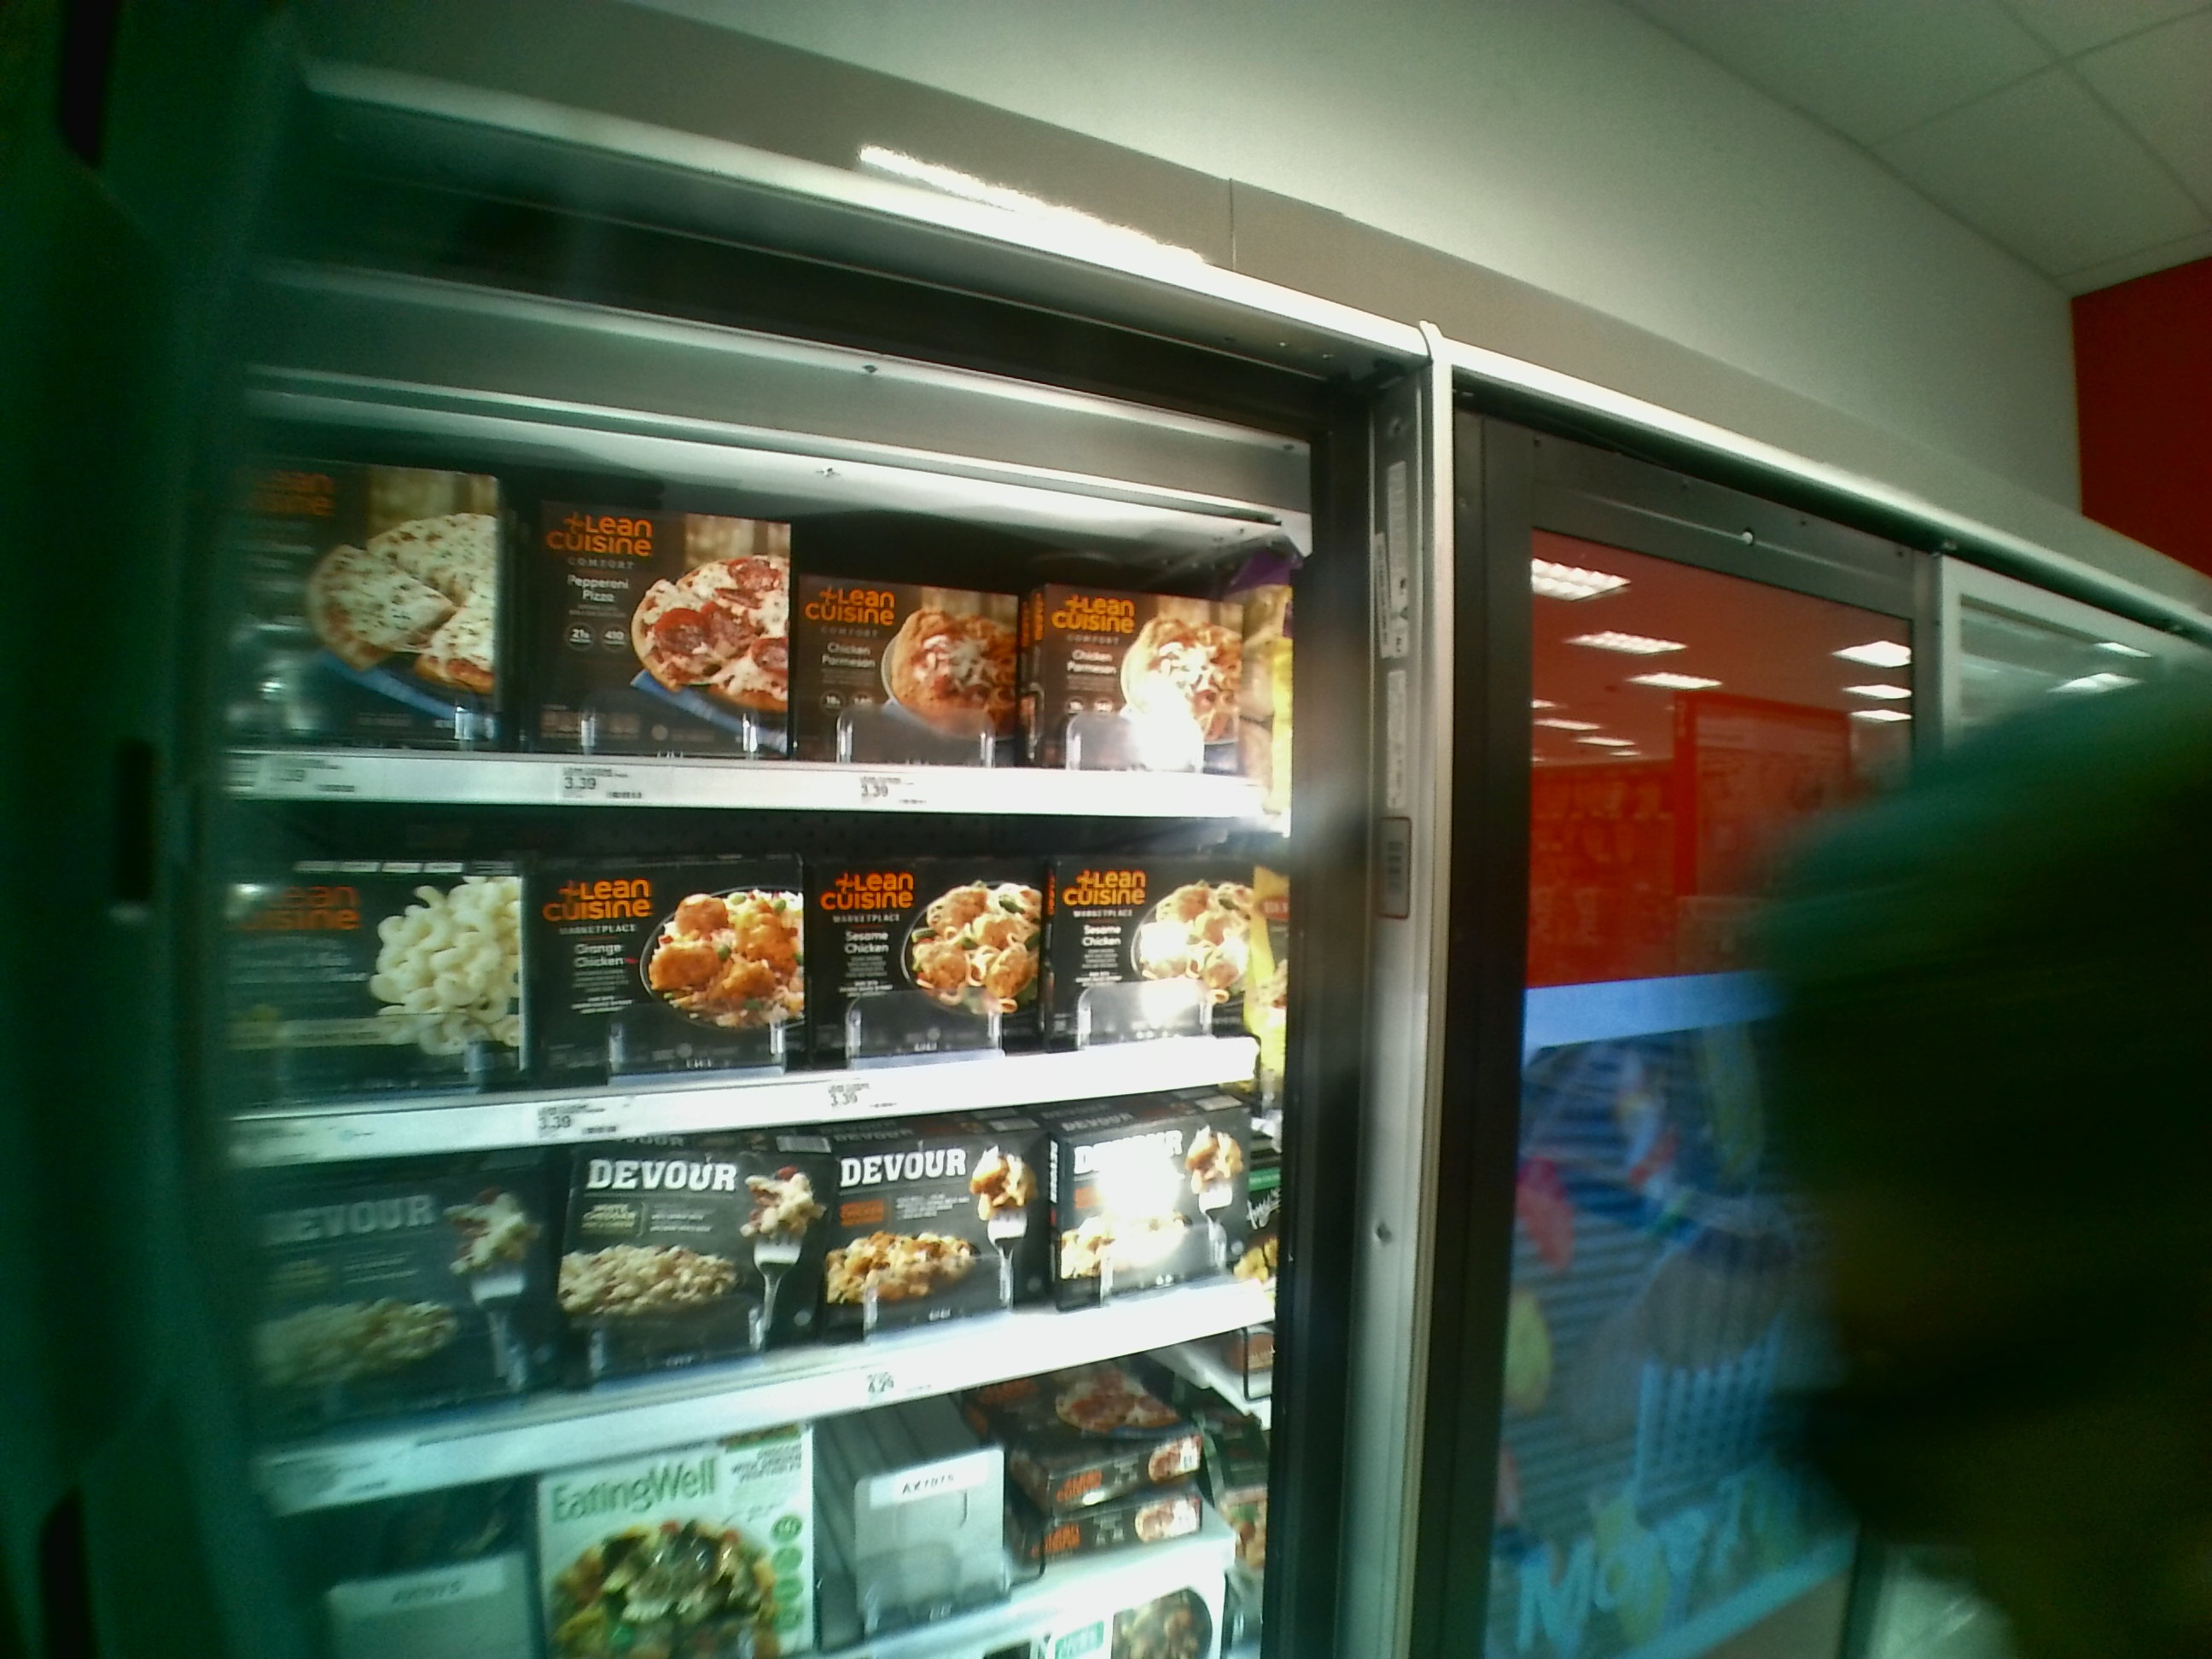shelf: (239, 382, 1280, 817), (225, 796, 1294, 1171)
